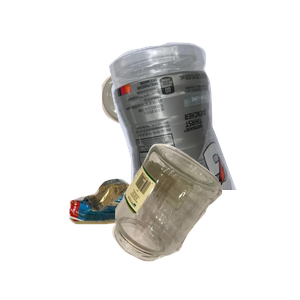glass: (110, 141, 300, 300)
metal: (99, 68, 244, 184)
plastic: (106, 40, 300, 220)
trash: (66, 173, 272, 300)
